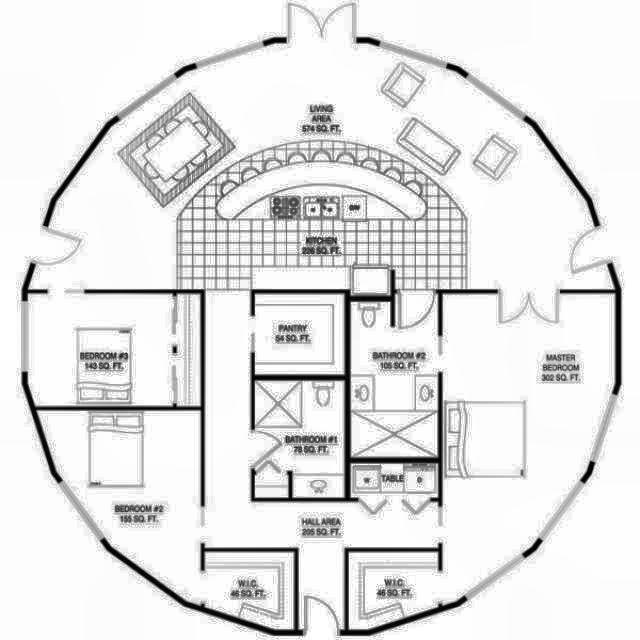room: (442, 294, 615, 605), (37, 410, 200, 605), (28, 293, 200, 406), (350, 293, 438, 457), (255, 381, 344, 498), (255, 294, 344, 374), (204, 552, 293, 629), (349, 552, 438, 629)
